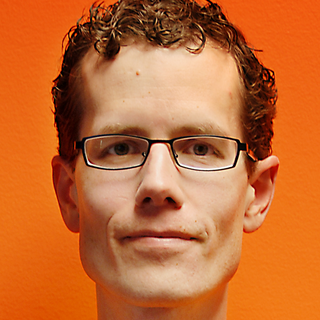eye: (96, 134, 141, 166), (182, 139, 222, 164)
